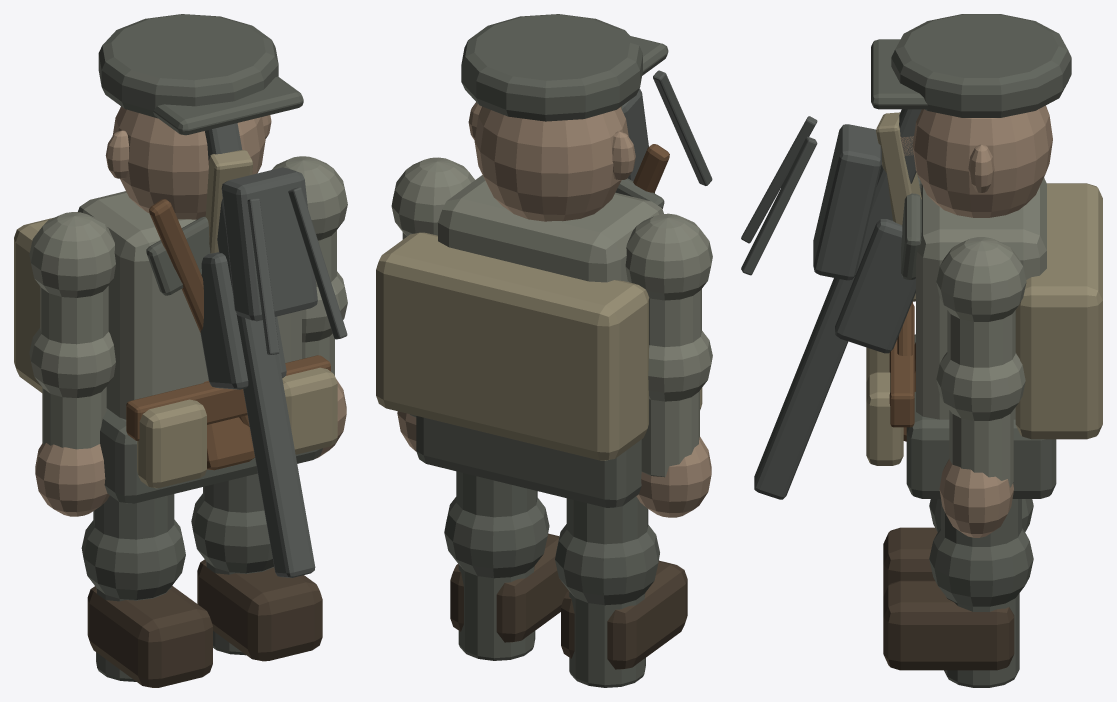
The model's file is Model_OperativeGunner.glb.
3 views of the same model, side by side, from view 1: azimuth 30°, elevation 25°; view 2: azimuth 150°, elevation 25°; view 3: azimuth 270°, elevation 25° (orthographic).
Visible parts, largest first — view 1: Asset_OperativeGunner_BodyMesh, Arm_L_Mesh.003, Leg_L_Mesh.003, Leg_R_Mesh.003, Arm_R_Mesh.003; view 2: Asset_OperativeGunner_BodyMesh, Arm_L_Mesh.003, Leg_L_Mesh.003, Leg_R_Mesh.003, Arm_R_Mesh.003; view 3: Asset_OperativeGunner_BodyMesh, Arm_R_Mesh.003, Leg_R_Mesh.003, Leg_L_Mesh.003.
Boxes of the visible parts, x1,y1,x2,y2 form: Asset_OperativeGunner_BodyMesh: (14,14,347,577); Arm_L_Mesh.003: (29,212,115,516); Leg_L_Mesh.003: (81,494,212,687); Leg_R_Mesh.003: (191,473,322,661); Arm_R_Mesh.003: (272,156,347,458); Asset_OperativeGunner_BodyMesh: (376,14,712,507); Arm_L_Mesh.003: (625,213,712,517); Leg_L_Mesh.003: (555,496,687,687); Leg_R_Mesh.003: (444,471,568,660); Arm_R_Mesh.003: (391,157,474,451); Asset_OperativeGunner_BodyMesh: (741,14,1102,499); Arm_R_Mesh.003: (936,237,1026,537); Leg_R_Mesh.003: (883,499,1033,687); Leg_L_Mesh.003: (883,499,1033,596).
Bounding box in the file's own units: 1.12 × 2.13 × 1.16.
